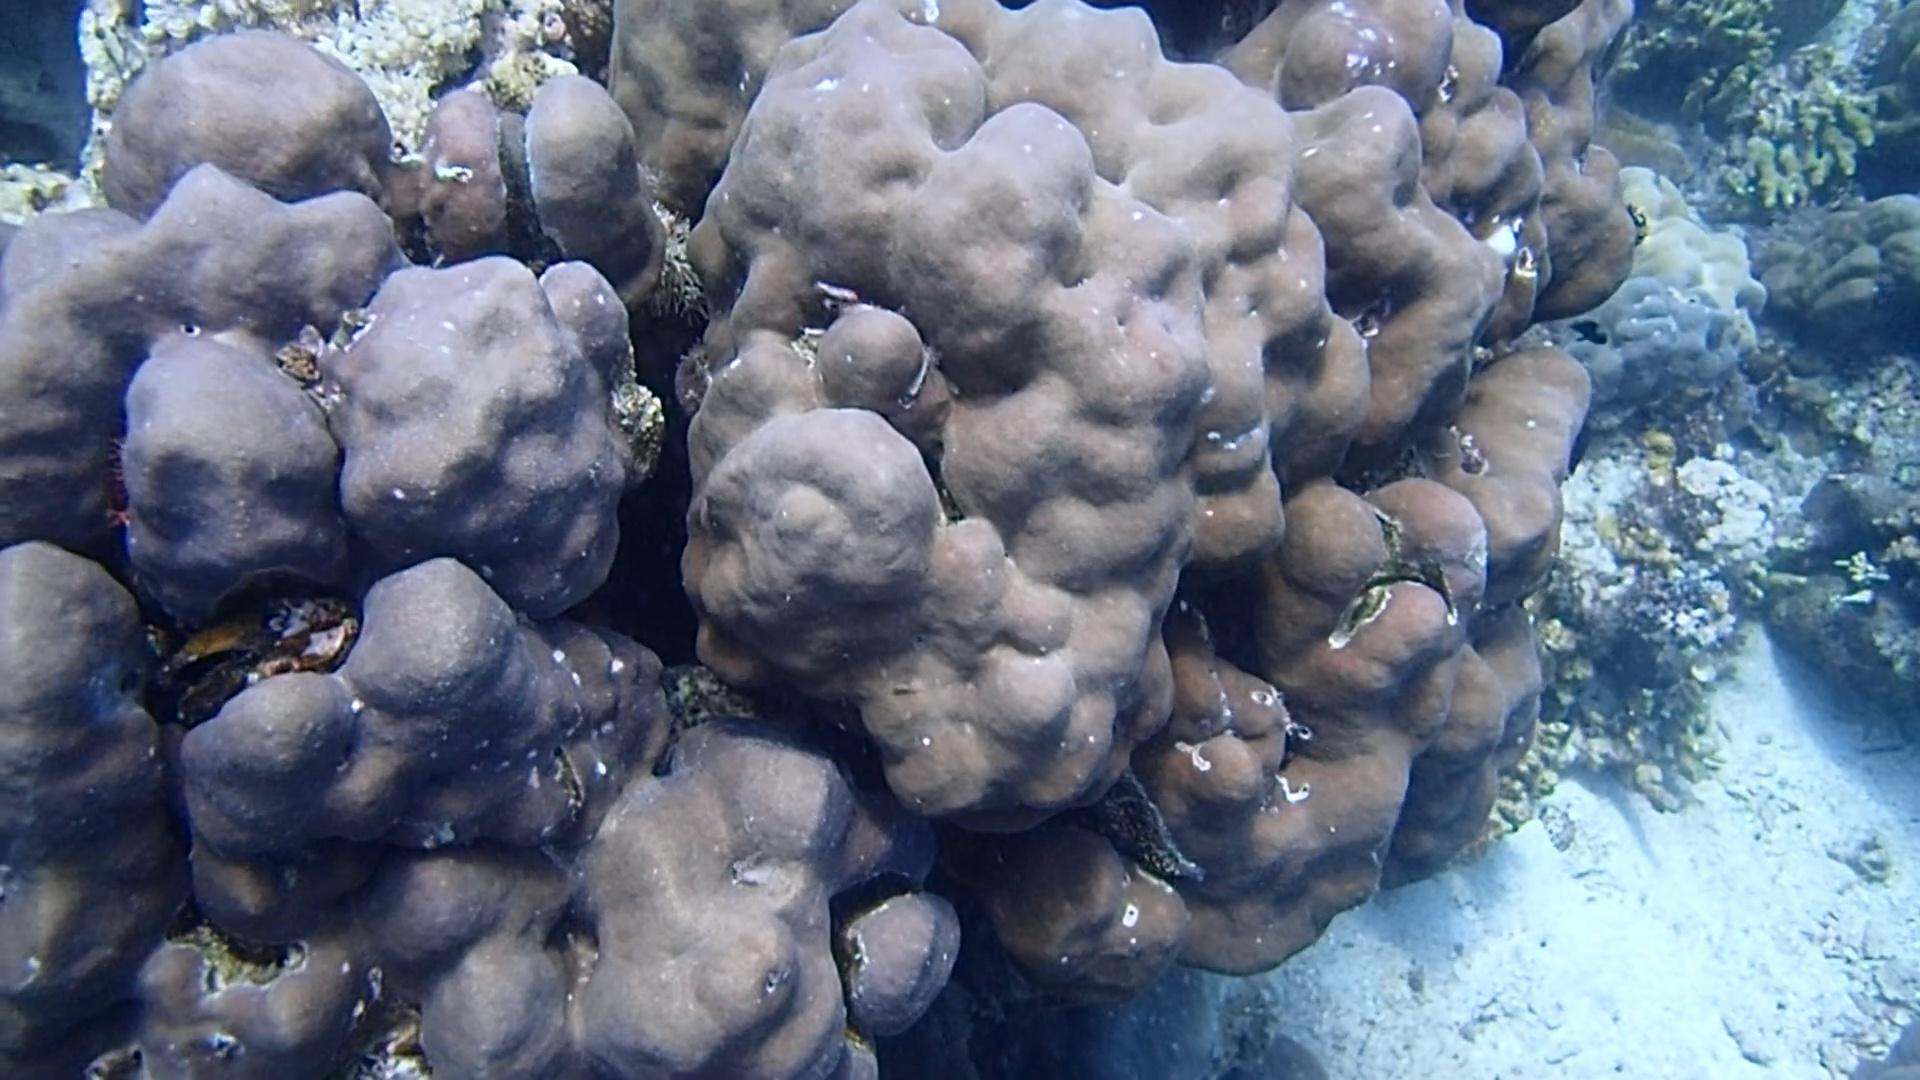Dark Fish: (1561, 311, 1614, 351)
